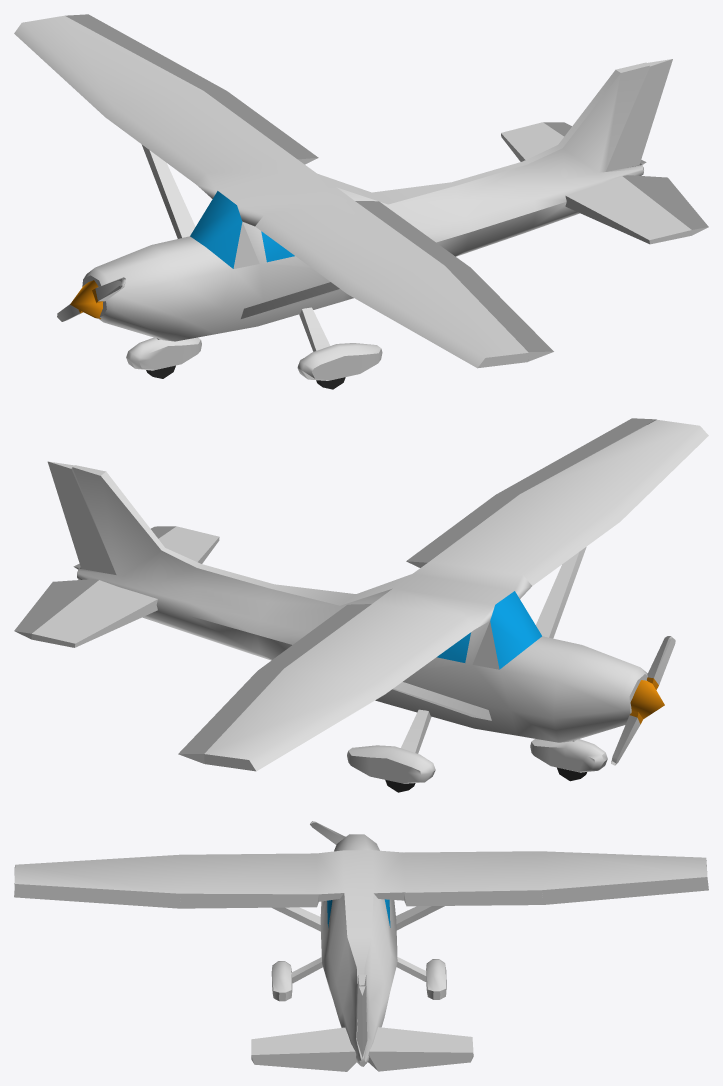
The picture shows the model from 3 angles, top to bottom: view 1: azimuth 30°, elevation 25°; view 2: azimuth 150°, elevation 25°; view 3: azimuth 270°, elevation 25°; orthographic projection. The views are drawn at different scales.
Visible parts, largest first — view 1: plane; view 2: plane; view 3: plane.
Boxes of the visible parts, box(x1,y1,x2,y2) form: plane: box(14, 14, 708, 389); plane: box(14, 418, 708, 792); plane: box(14, 821, 708, 1071).
Bounding box in the file's own units: 1064 × 327 × 1389.
